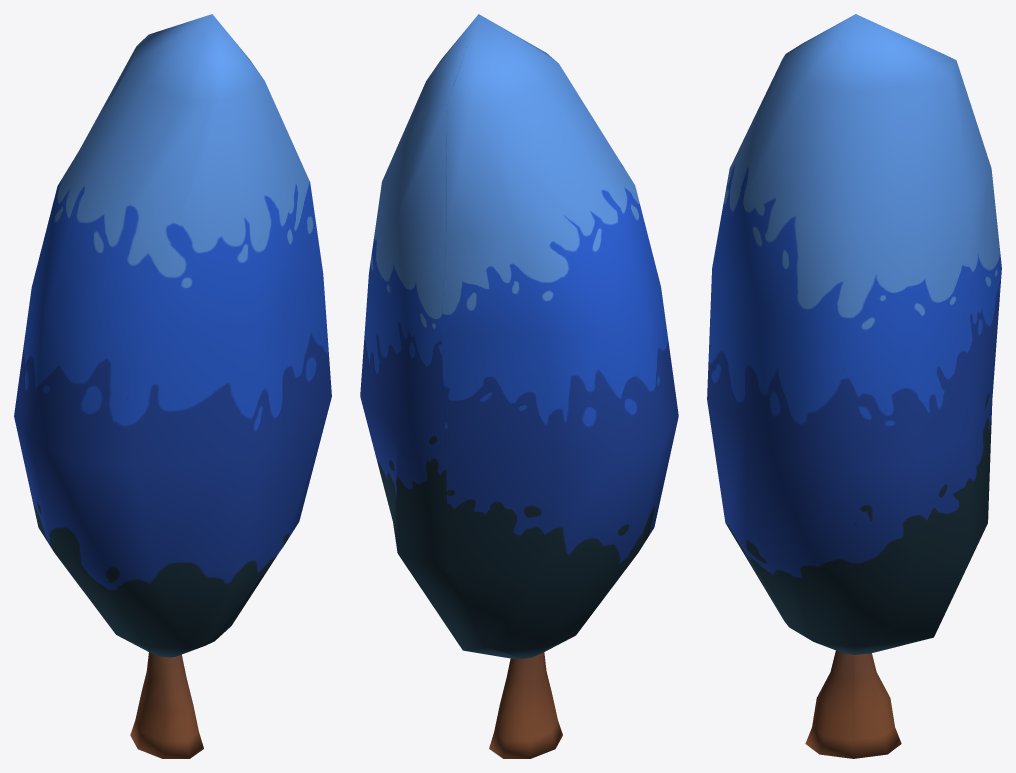
Rendered from Tree_Blue1.fbx.
The picture shows the model from 3 angles, left to right: view 1: azimuth 30°, elevation 25°; view 2: azimuth 150°, elevation 25°; view 3: azimuth 270°, elevation 25°; orthographic projection. The views are drawn at different scales.
Parts seen in each view (by area): view 1: polySurface25; view 2: polySurface25; view 3: polySurface25.
Part boxes in pixels (bbox=[...]): polySurface25: bbox=[14, 14, 331, 758]; polySurface25: bbox=[360, 14, 678, 758]; polySurface25: bbox=[707, 14, 1001, 758].
Size of the model in its own units: 2.64 by 6.31 by 2.24.
